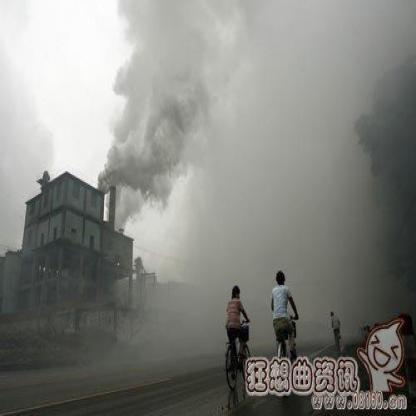smoke: (115, 5, 222, 114), (98, 114, 192, 208)
